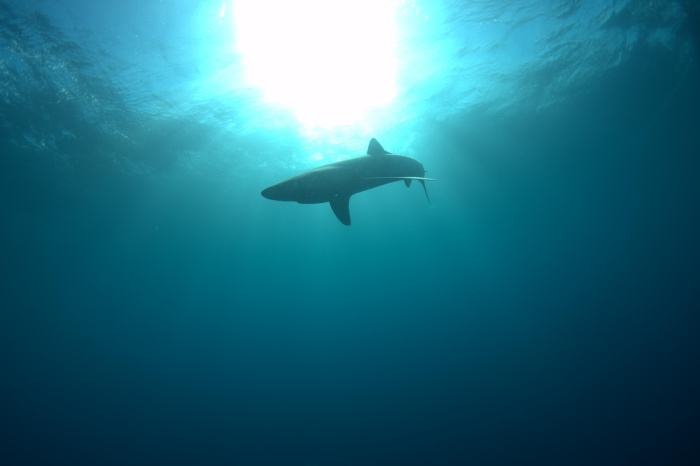Azul: (256, 132, 437, 239)
